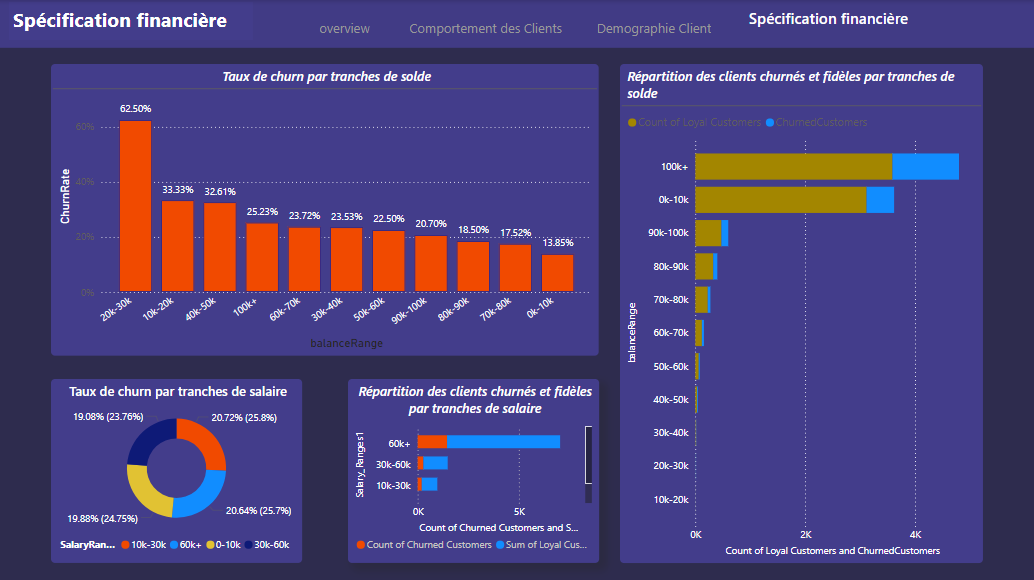

The page's visual inventory and layout, read from the dashboard file:
{"tool":"powerbi","page":{"name":"Spécification financière","canvas":[1280,720],"ordinal":3},"visuals":[{"type":"columnChart","title":"Taux de churn par tranches de solde","fields":{"Y":["table_faits.ChurnRate"],"Category":["table_faits.balanceRange"]},"box":[65.4,79,676.4,360.4],"z":0},{"type":"shape","box":[0,0,1280,59.2],"z":1000},{"type":"textbox","box":[13.6,2.5,301.2,46.9],"z":2000},{"type":"actionButton","title":"overview","box":[377.6,19.1,99.9,30.9],"z":3000},{"type":"actionButton","title":"Demographie Client","box":[701.1,18.5,217.2,30.9],"z":4000},{"type":"actionButton","title":"Comportement  des Clients","box":[461.4,19.1,280.7,30.9],"z":5000},{"type":"actionButton","title":"Spécification financière","box":[918.3,9.9,213.5,30.9],"z":6000},{"type":"donutChart","title":"Taux de churn par tranches de salaire","fields":{"Category":["table_faits.Salary_Ranges1"],"Y":["table_faits.ChurnRate"]},"box":[65.4,467.8,309.8,227.1],"z":7000},{"type":"barChart","title":"Répartition des clients churnés et fidèles par tranches de salaire","fields":{"Category":["table_faits.Salary_Ranges1"],"Y":["CountNonNull(table_faits.Churned Customers)","Sum(table_faits.Loyal Customers)"]},"box":[432,467.8,309.8,227.1],"z":8000},{"type":"barChart","title":"Répartition des clients churnés et fidèles par tranches de solde","fields":{"Category":["table_faits.balanceRange"],"Y":["CountNonNull(table_faits.Loyal Customers)","table_faits.ChurnedCustomers"]},"box":[767.8,79,448.1,615.9],"z":9000}]}

Visuals, with their boxes in screenshot pixels (x1, y1, x2, y2), scaled from the page's 1280x720 canvas onto the 1034x580 screenshot:
"Taux de churn par tranches de solde" columnChart: bbox(53, 64, 599, 354)
shape: bbox(0, 0, 1033, 48)
textbox: bbox(11, 2, 254, 40)
"overview" actionButton: bbox(305, 15, 386, 40)
"Demographie Client" actionButton: bbox(566, 15, 742, 40)
"Comportement  des Clients" actionButton: bbox(373, 15, 599, 40)
"Spécification financière" actionButton: bbox(742, 8, 914, 33)
"Taux de churn par tranches de salaire" donutChart: bbox(53, 377, 303, 560)
"Répartition des clients churnés et fidèles par tranches de salaire" barChart: bbox(349, 377, 599, 560)
"Répartition des clients churnés et fidèles par tranches de solde" barChart: bbox(620, 64, 982, 560)
